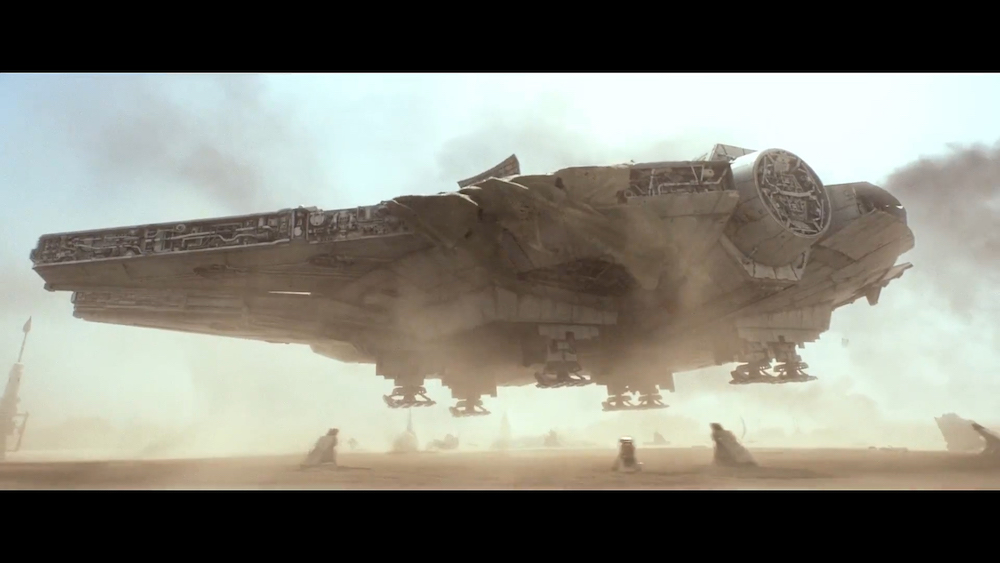Millennium Falcon: (29, 143, 916, 393)
